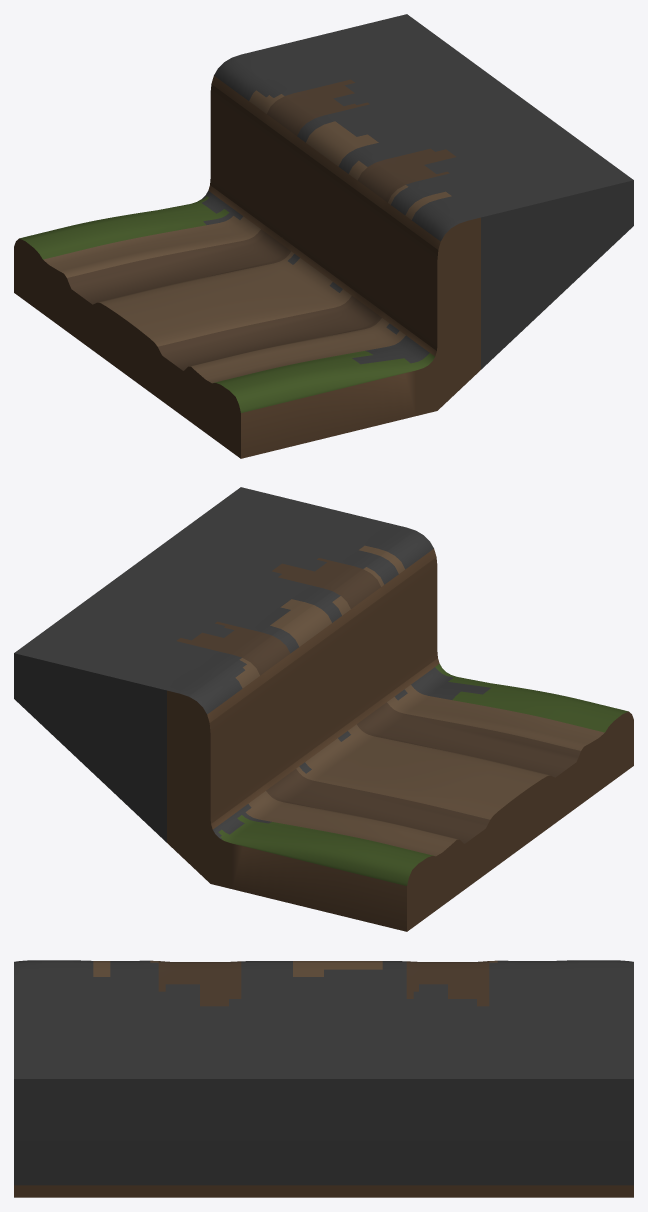
The picture shows the model from 3 angles, top to bottom: view 1: azimuth 30°, elevation 25°; view 2: azimuth 150°, elevation 25°; view 3: azimuth 270°, elevation 25°; orthographic projection. The views are drawn at different scales.
Parts seen in each view (by area): view 1: k3t; view 2: k3t; view 3: k3t.
Boxes of the visible parts, x1,y1,x2,y2 form: k3t: (14,14,633,458); k3t: (14,487,633,931); k3t: (14,960,633,1197).
Size of the model in its own units: 9 by 4.01 by 9.
